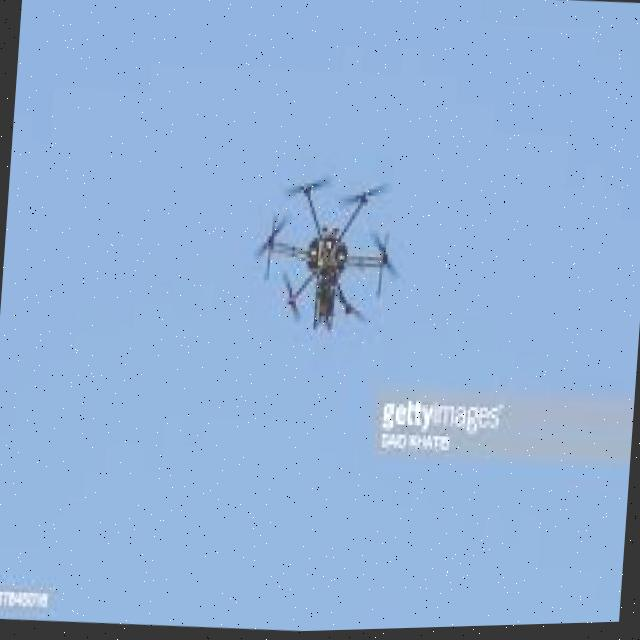drone: (232, 150, 430, 366)
